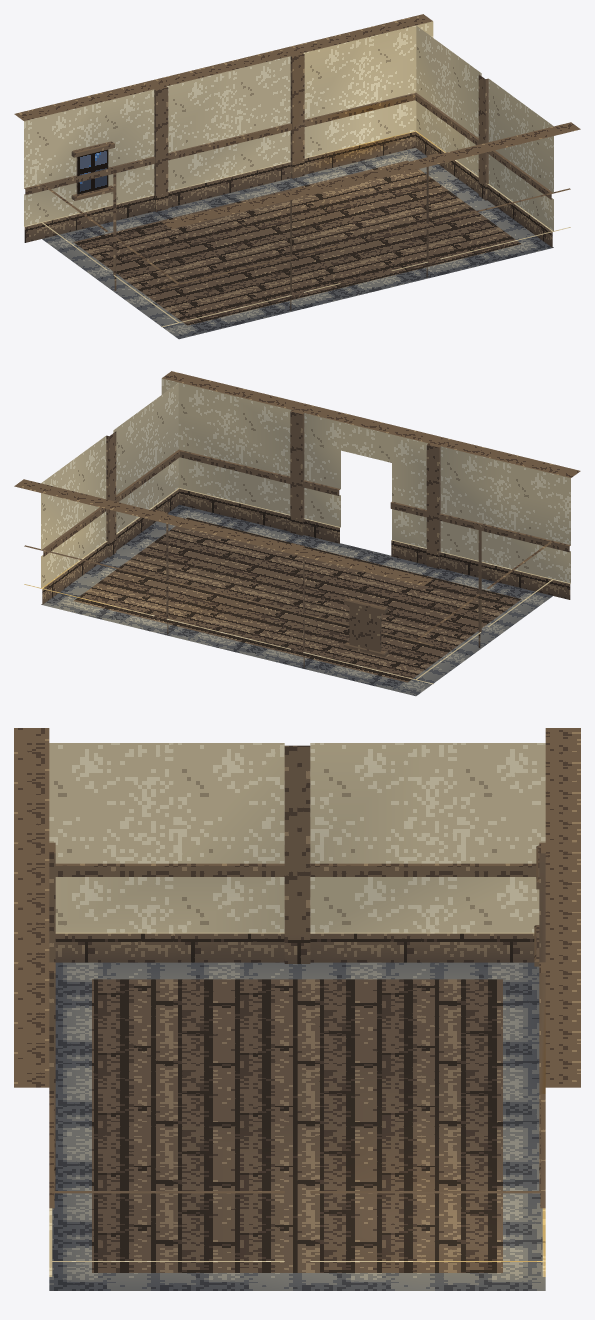
The model's file is vlg.room.glb.
3 views of the same model, one above another, from view 1: azimuth 30°, elevation 25°; view 2: azimuth 150°, elevation 25°; view 3: azimuth 270°, elevation 25° (orthographic). The views are drawn at different scales.
Parts seen in each view (by area): view 1: kit_shell_walls, kit_shell_floor, kit_fittings; view 2: kit_shell_walls, kit_shell_floor, kit_fittings; view 3: kit_shell_floor, kit_shell_walls.
Part boxes in pixels (x1,y1,x2,y2): kit_shell_walls: (14, 14, 580, 327); kit_shell_floor: (42, 148, 553, 339); kit_fittings: (71, 141, 114, 200); kit_shell_walls: (14, 371, 580, 684); kit_shell_floor: (41, 505, 552, 696); kit_fittings: (343, 597, 388, 657); kit_shell_floor: (49, 962, 545, 1290); kit_shell_walls: (14, 728, 580, 1276).
Bounding box in the file's own units: 12 × 3.4 × 8.
6 materials, 6 textured.
